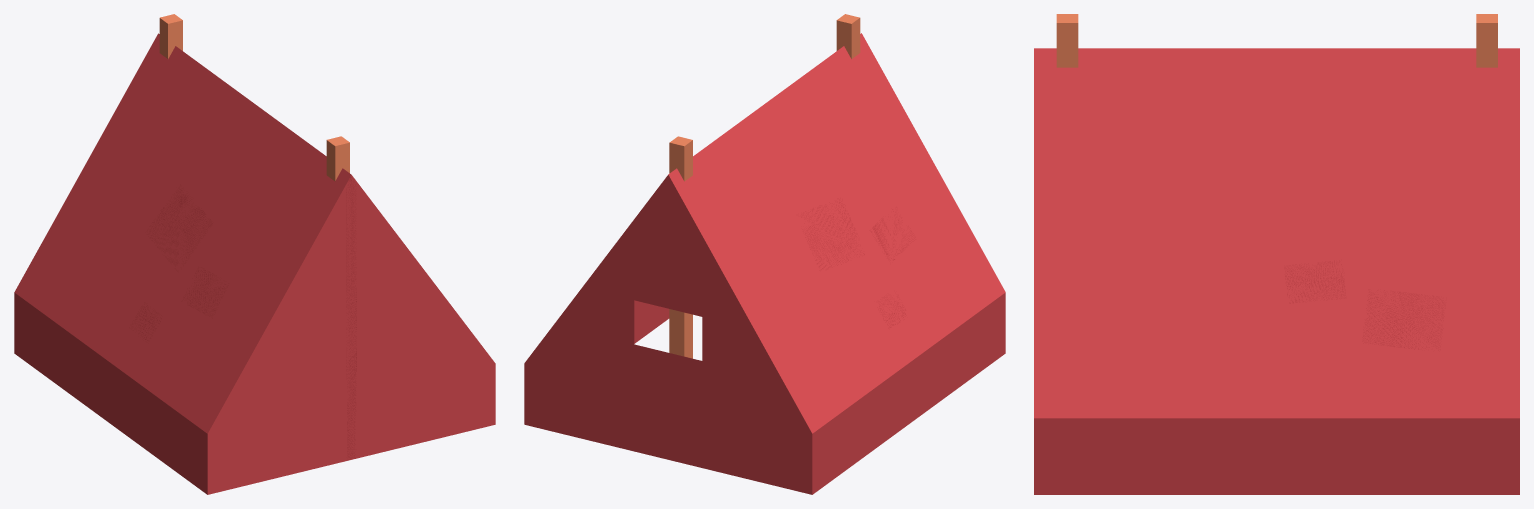
The model's file is tent_smallClosed.dae.
3 renders of one model, left to right at view 1: azimuth 30°, elevation 25°; view 2: azimuth 150°, elevation 25°; view 3: azimuth 270°, elevation 25°, orthographic. The views are drawn at different scales.
Parts seen in each view (by area): view 1: tent_smallClosed; view 2: tent_smallClosed; view 3: tent_smallClosed.
Boxes of the visible parts, box(x1,y1,x2,y2) form: tent_smallClosed: box(14, 14, 495, 494); tent_smallClosed: box(524, 14, 1005, 494); tent_smallClosed: box(1034, 14, 1519, 494).
Bounding box in the file's own units: 0.5476 × 0.5611 × 0.6364.
